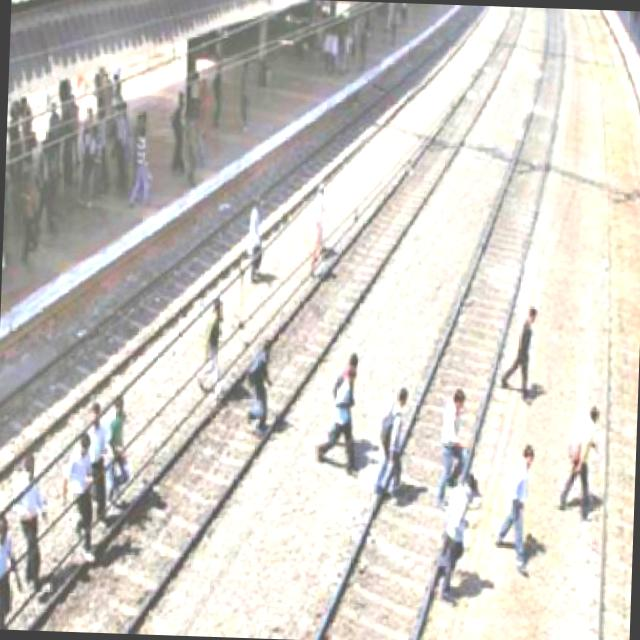Person: (424, 384, 476, 508), (318, 349, 364, 476), (560, 396, 604, 520), (12, 445, 46, 581), (64, 424, 96, 564), (374, 378, 412, 495), (100, 388, 132, 516), (497, 306, 539, 400), (196, 292, 226, 400), (242, 330, 272, 434), (305, 177, 333, 275), (242, 194, 269, 279)
